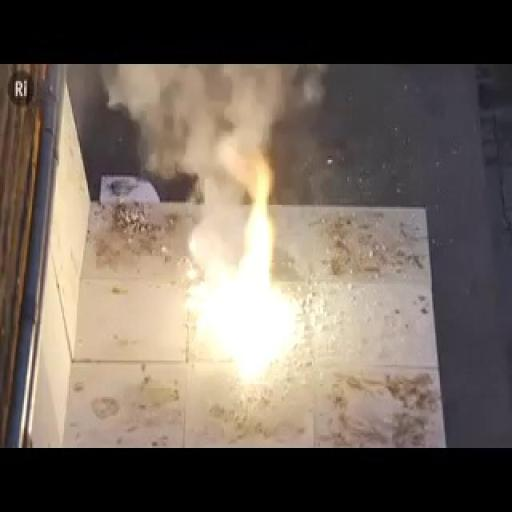smoke: (186, 120, 305, 384)
